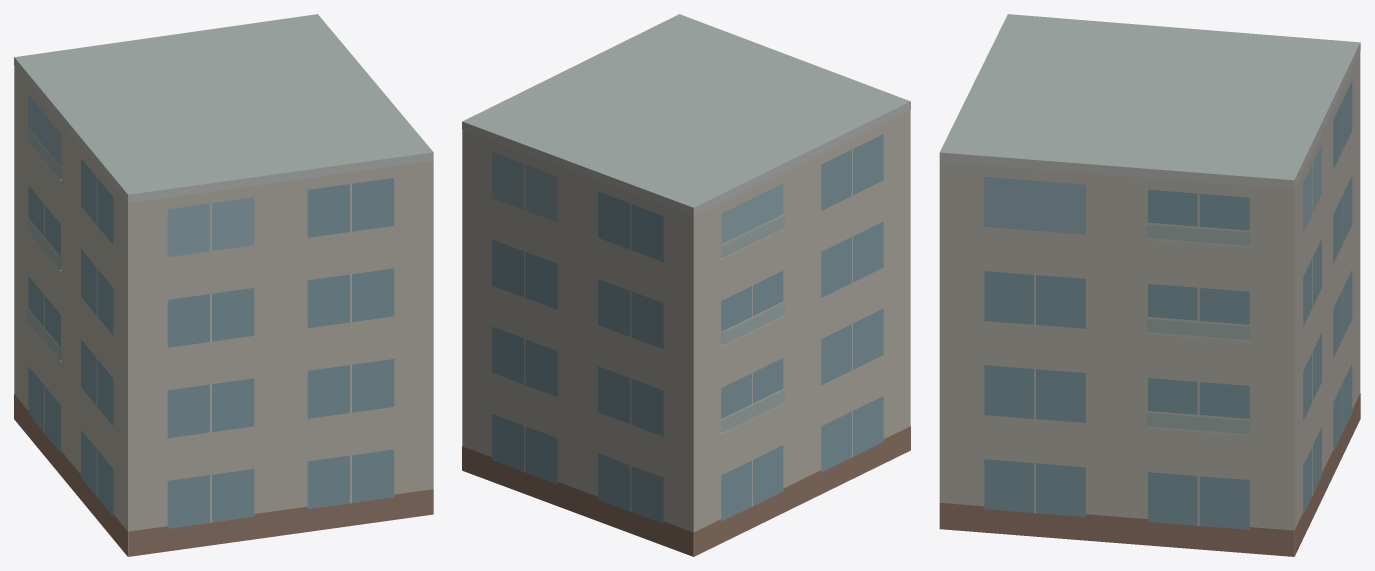
The model's file is survey-upis-32529280.glb.
The picture shows the model from 3 angles, left to right: view 1: azimuth 30°, elevation 25°; view 2: azimuth 150°, elevation 25°; view 3: azimuth 270°, elevation 25°; orthographic projection. The views are drawn at different scales.
Visible parts, largest first — view 1: survey-upis-32529280.tmp; view 2: survey-upis-32529280.tmp; view 3: survey-upis-32529280.tmp.
Part boxes in pixels (bbox=[...]): survey-upis-32529280.tmp: bbox=[14, 14, 433, 556]; survey-upis-32529280.tmp: bbox=[462, 14, 910, 556]; survey-upis-32529280.tmp: bbox=[939, 14, 1360, 556].
Bounding box in the file's own units: 9.86 × 10.4 × 10.54.
